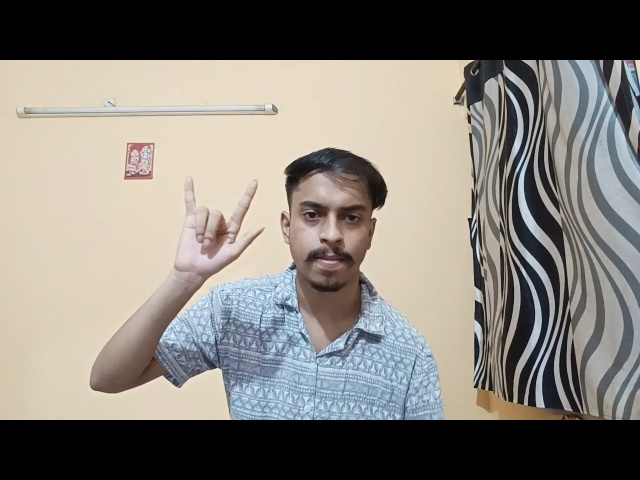ILoveyou: (160, 171, 272, 281)
